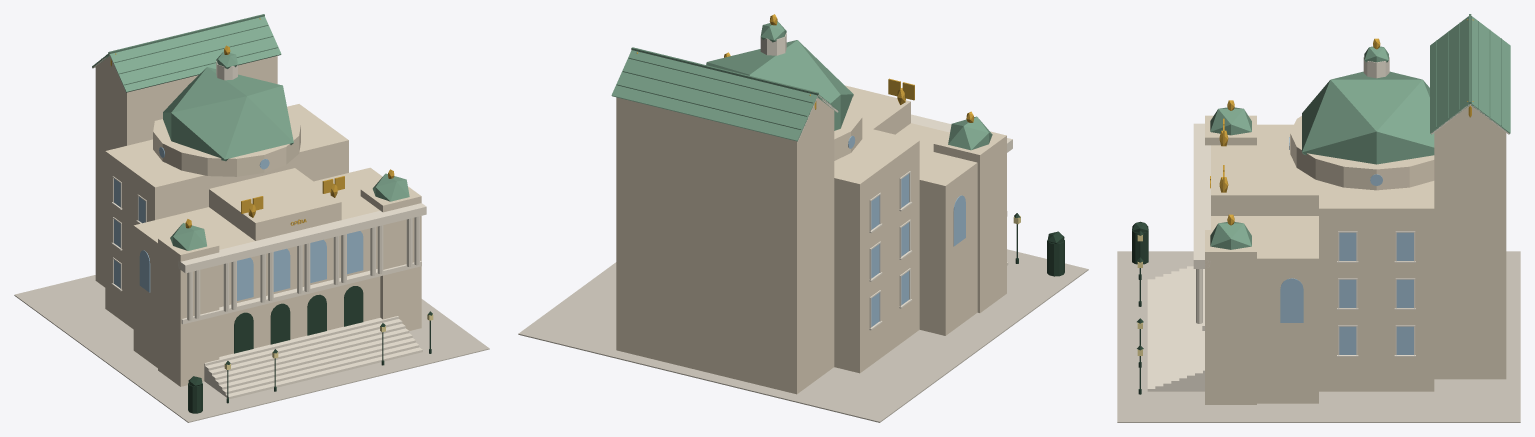
Rendered from Simge_opera_Hafif.fbx.
The picture shows the model from 3 angles, left to right: view 1: azimuth 30°, elevation 25°; view 2: azimuth 150°, elevation 25°; view 3: azimuth 270°, elevation 25°; orthographic projection. The views are drawn at different scales.
Visible parts, largest first — view 1: Simge_opera_Hafif; view 2: Simge_opera_Hafif; view 3: Simge_opera_Hafif.
Part boxes in pixels (x1,y1,x2,y2): Simge_opera_Hafif: [14, 14, 489, 422]; Simge_opera_Hafif: [518, 14, 1088, 422]; Simge_opera_Hafif: [1117, 14, 1520, 422].
Bounding box in the file's own units: 28 × 22.91 × 28.
